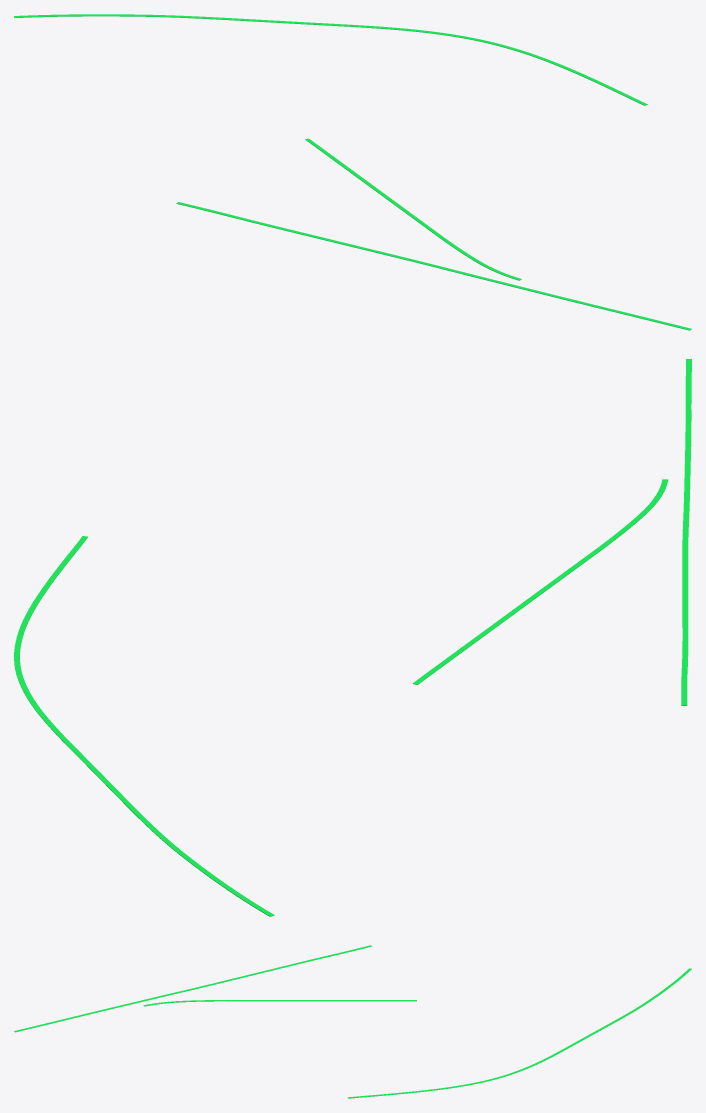
File: MiamiDrs.glb
3 views of the same model, one above another, from view 1: azimuth 30°, elevation 25°; view 2: azimuth 150°, elevation 25°; view 3: azimuth 270°, elevation 25° (orthographic). The views are drawn at different scales.
Visible parts, largest first — view 1: DrsStrip_1, DrsStrip_2, DrsStrip_3; view 2: DrsStrip_1, DrsStrip_2, DrsStrip_3; view 3: DrsStrip_1, DrsStrip_2, DrsStrip_3.
Boxes of the visible parts, x1,y1,x2,y2 form: DrsStrip_1: (14,14,647,105); DrsStrip_2: (176,202,691,330); DrsStrip_3: (305,138,521,280); DrsStrip_1: (14,536,274,916); DrsStrip_2: (681,359,691,705); DrsStrip_3: (412,479,668,684); DrsStrip_1: (347,968,691,1098); DrsStrip_2: (14,945,371,1032); DrsStrip_3: (143,1000,416,1006).
Bounding box in the file's own units: 8.57 × 0.006 × 16.01.
